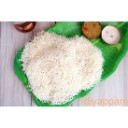idiyappam: (28, 53, 81, 100), (60, 34, 103, 84), (24, 33, 66, 77)
